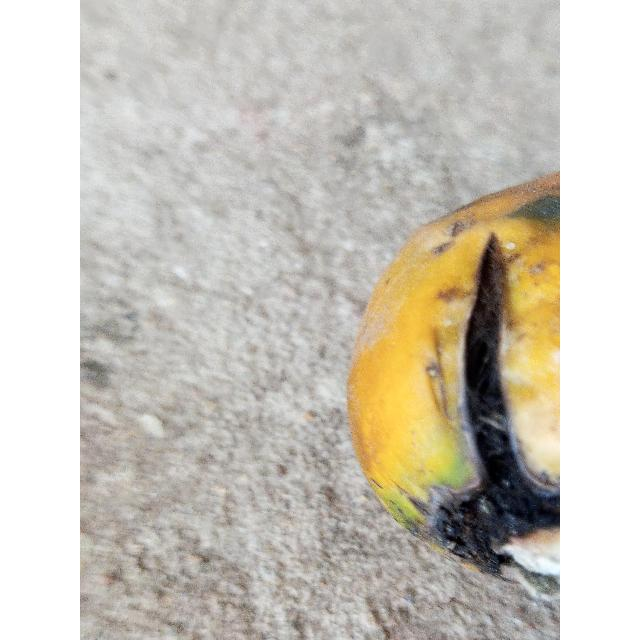damaged: (345, 170, 560, 578)
